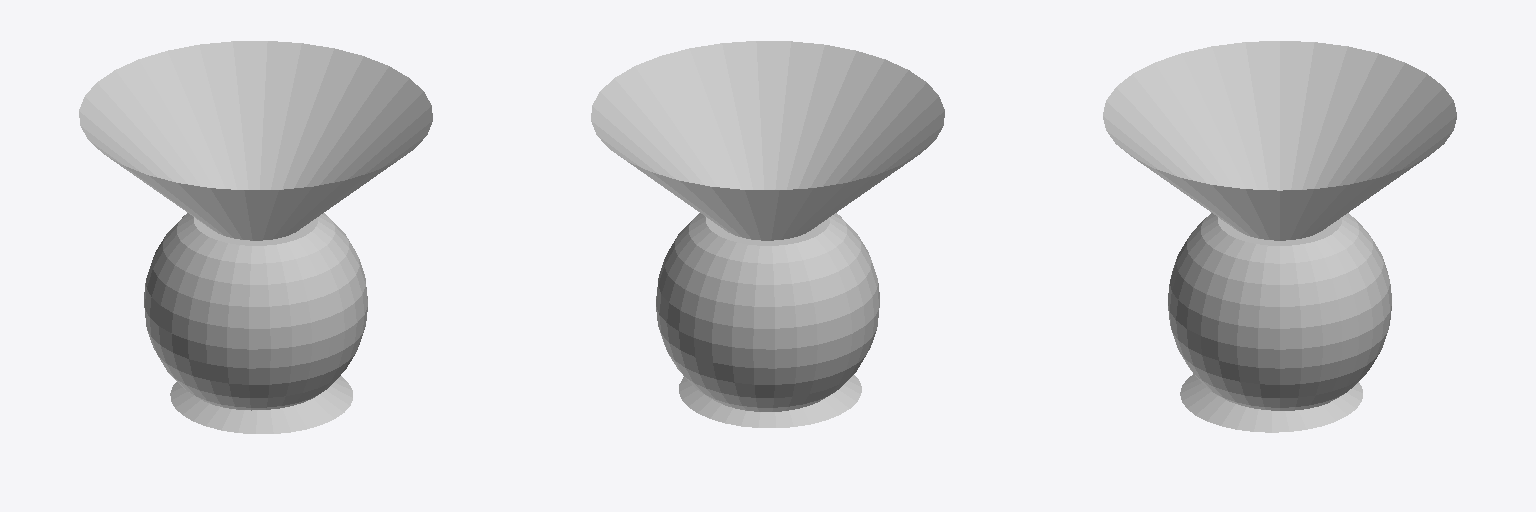
File: bowl2.obj
3 views of the same model, side by side, from view 1: azimuth 30°, elevation 25°; view 2: azimuth 150°, elevation 25°; view 3: azimuth 270°, elevation 25° (orthographic).
Parts seen in each view (by area): view 1: Sphere, Cone; view 2: Sphere, Cone; view 3: Sphere, Cone.
Boxes of the visible parts, box(x1,y1,x2,y2) form: Sphere: box(79, 41, 432, 410); Cone: box(170, 376, 352, 433); Sphere: box(591, 41, 944, 411); Cone: box(679, 375, 861, 427); Sphere: box(1103, 41, 1456, 410); Cone: box(1180, 374, 1362, 432).
Bounding box in the file's own units: 3.87 × 3.37 × 3.87.